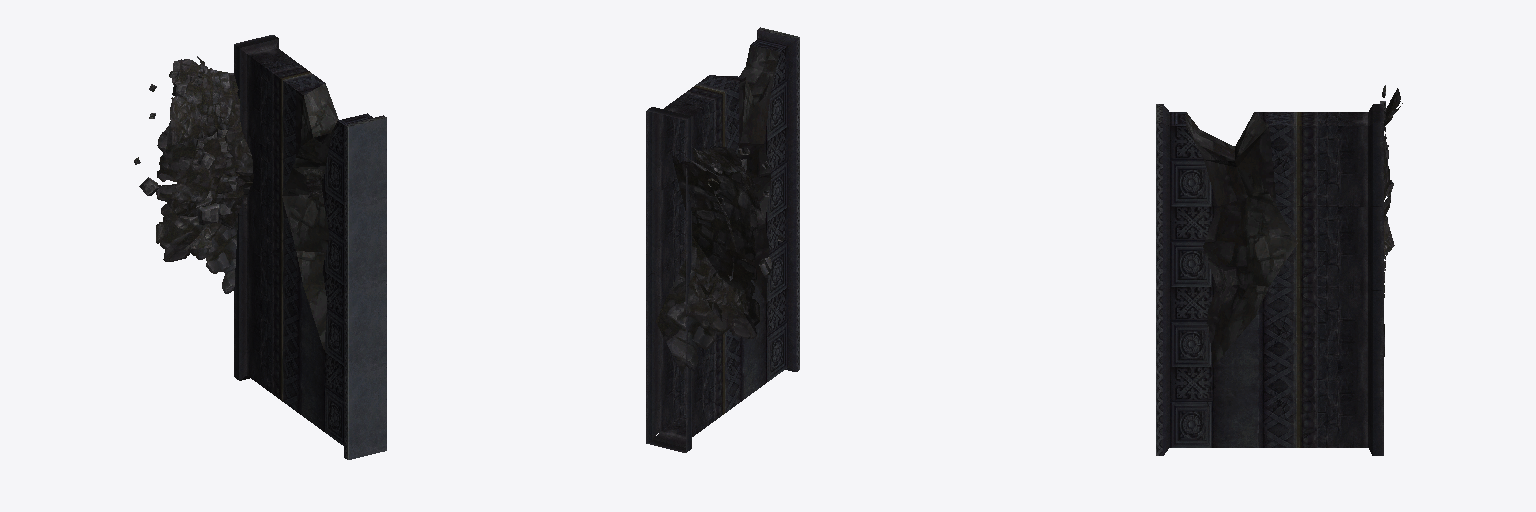
The picture shows the model from 3 angles: view 1: azimuth 30°, elevation 25°; view 2: azimuth 150°, elevation 25°; view 3: azimuth 270°, elevation 25°; orthographic projection.
Visible parts, largest first — view 1: huodong_fuben_652_pingtai02_qiang01b; view 2: huodong_fuben_652_pingtai02_qiang01b; view 3: huodong_fuben_652_pingtai02_qiang01b.
Part boxes in pixels (left/top/right/bottom): huodong_fuben_652_pingtai02_qiang01b: left=134, top=35, right=386, bottom=459; huodong_fuben_652_pingtai02_qiang01b: left=646, top=27, right=799, bottom=452; huodong_fuben_652_pingtai02_qiang01b: left=1156, top=85, right=1402, bottom=455.
Size of the model in its own units: 753 by 1723 by 1161.
4 materials, 4 textured.